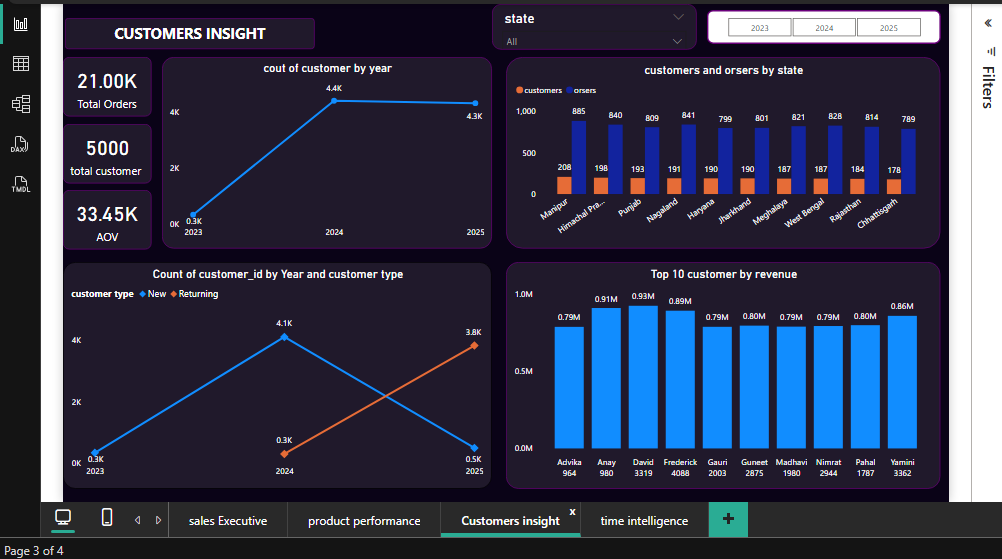

The page's visual inventory and layout, read from the dashboard file:
{"tool":"powerbi","page":{"name":"Customers insight","canvas":[1280,720],"ordinal":2},"visuals":[{"type":"columnChart","title":"Top 10 customer by revenue","fields":{"Category":["customers.f_name","customers.customer_id"],"Y":["order_items.total_price"]},"box":[640,372.9,628.2,327.6],"z":0},{"type":"lineChart","title":"cout of customer by year","fields":{"Category":["orders.order_date.Variation.Date Hierarchy.Year"],"Y":["category.unique customers"]},"box":[142.8,77.3,477.1,277.2],"z":1000},{"type":"card","fields":{"Values":["customers.customer_id"]},"box":[0,173,127.7,85.7],"z":2000},{"type":"card","fields":{"Values":["order_items.order_id"]},"box":[0,77.3,127.7,85.7],"z":3000},{"type":"slicer","fields":{"Values":["orders.order_date.Variation.Date Hierarchy.Year"]},"box":[930.6,8.4,337.6,48.7],"z":4000},{"type":"textbox","box":[3.4,20.2,361.2,45.4],"z":5000},{"type":"lineChart","fields":{"Category":["orders.order_date.Variation.Date Hierarchy.Year"],"Series":["orders.customer type"],"Y":["orders.customer_id"]},"box":[0,372.9,619.8,327.6],"z":6000},{"type":"clusteredColumnChart","fields":{"Category":["customers.state"],"Y":["orders.customer_id","orders.order_id"]},"box":[640,77.3,628.2,277.2],"z":7000},{"type":"slicer","fields":{"Values":["customers.state"]},"box":[619.8,0,295.6,65.5],"z":8000},{"type":"card","fields":{"Values":["category.AOV"]},"box":[0,268.8,127.7,85.7],"z":9000}]}

Visuals, with their boxes on the page's 1280x720 design canvas (x1, y1, x2, y2). These are canvas units, not pixel positions in the 1002x559 screenshot, which may show the page scaled, cropped or inside an application window:
"Top 10 customer by revenue" columnChart: box=[640, 373, 1268, 700]
"cout of customer by year" lineChart: box=[143, 77, 620, 354]
card - customers.customer_id: box=[0, 173, 128, 259]
card - order_items.order_id: box=[0, 77, 128, 163]
slicer - orders.order_date.Variation.Date Hierarchy.Year: box=[931, 8, 1268, 57]
textbox: box=[3, 20, 365, 66]
lineChart - orders.order_date.Variation.Date Hierarchy.Year x orders.customer type: box=[0, 373, 620, 700]
clusteredColumnChart - customers.state x orders.customer_id: box=[640, 77, 1268, 354]
slicer - customers.state: box=[620, 0, 915, 66]
card - category.AOV: box=[0, 269, 128, 354]
